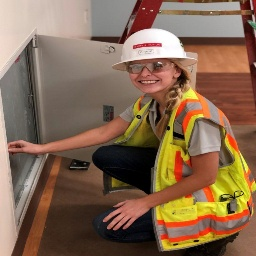helmet: (105, 30, 207, 74)
person: (86, 23, 256, 245)
vest: (113, 86, 250, 250)
